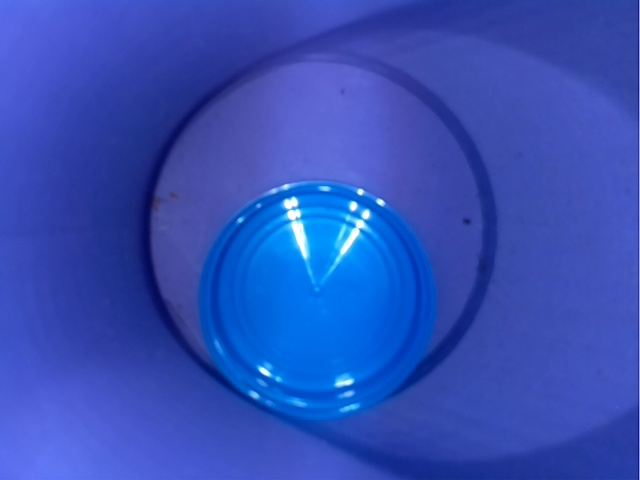bouchon: (192, 178, 447, 422)
